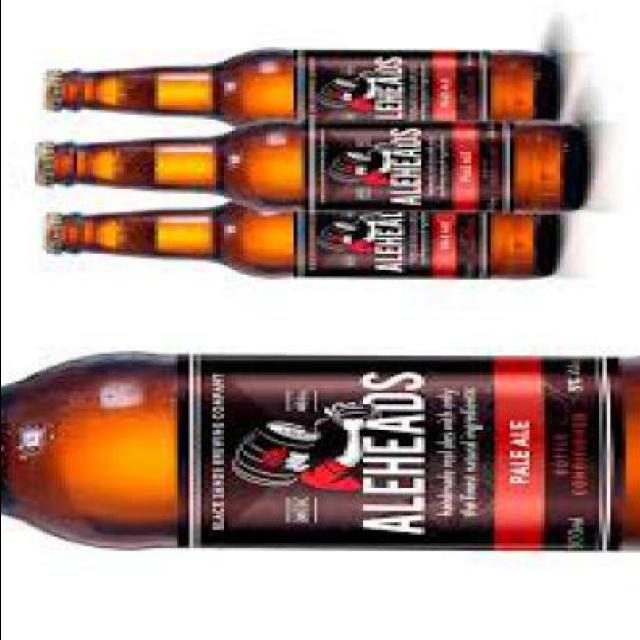kaca: (0, 358, 640, 550), (58, 126, 584, 215), (50, 200, 552, 282), (54, 55, 548, 131)
